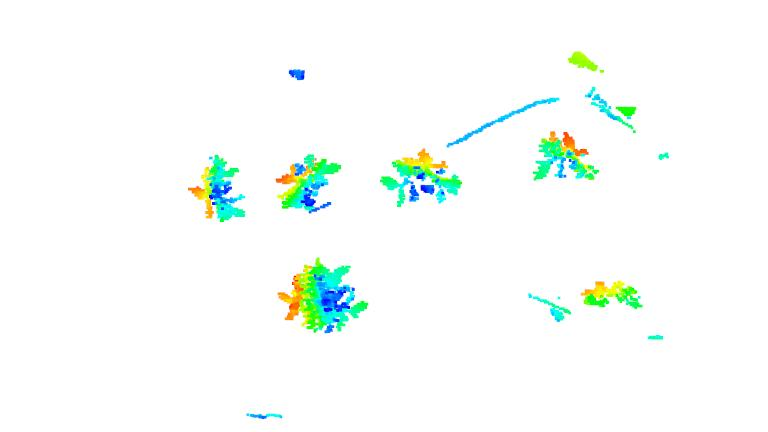chickpea: (277, 257, 369, 334), (380, 147, 464, 209), (187, 152, 249, 223), (275, 153, 341, 214), (527, 129, 599, 183), (581, 278, 642, 311)
